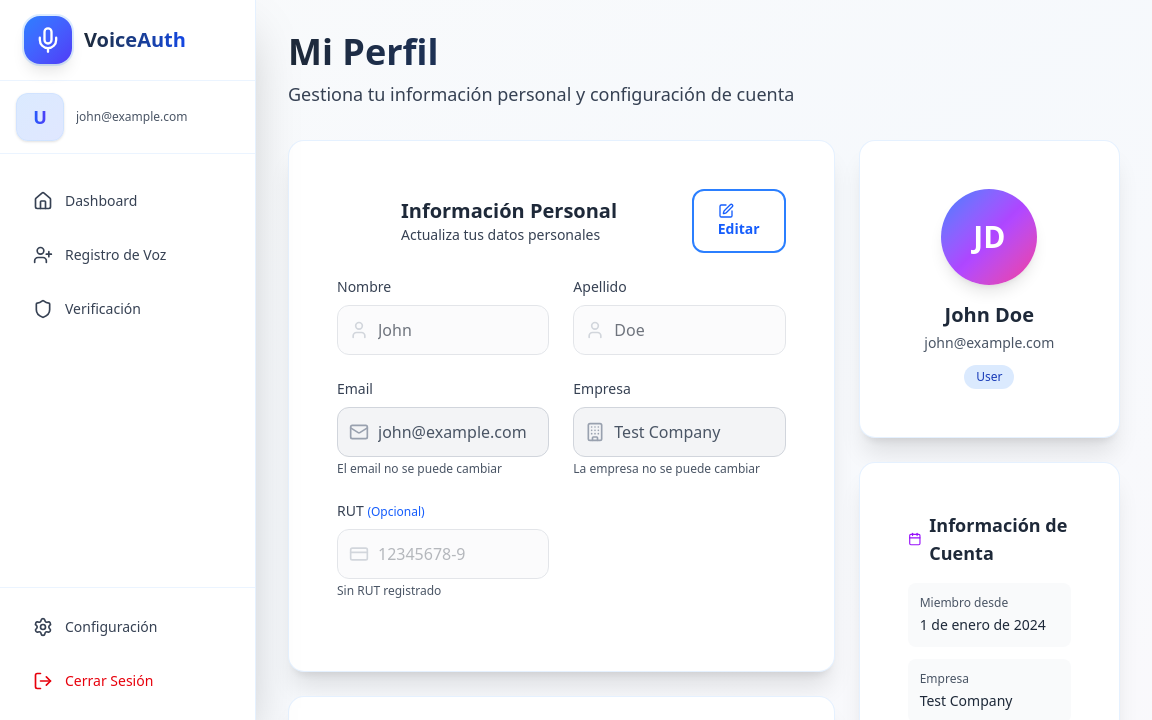
ProfilePage › enables editing mode on button click
The width and height of the screenshot is (1152, 720).
Click the button "Editar" at [739, 221], box x1=692 y1=189 x2=786 y2=253
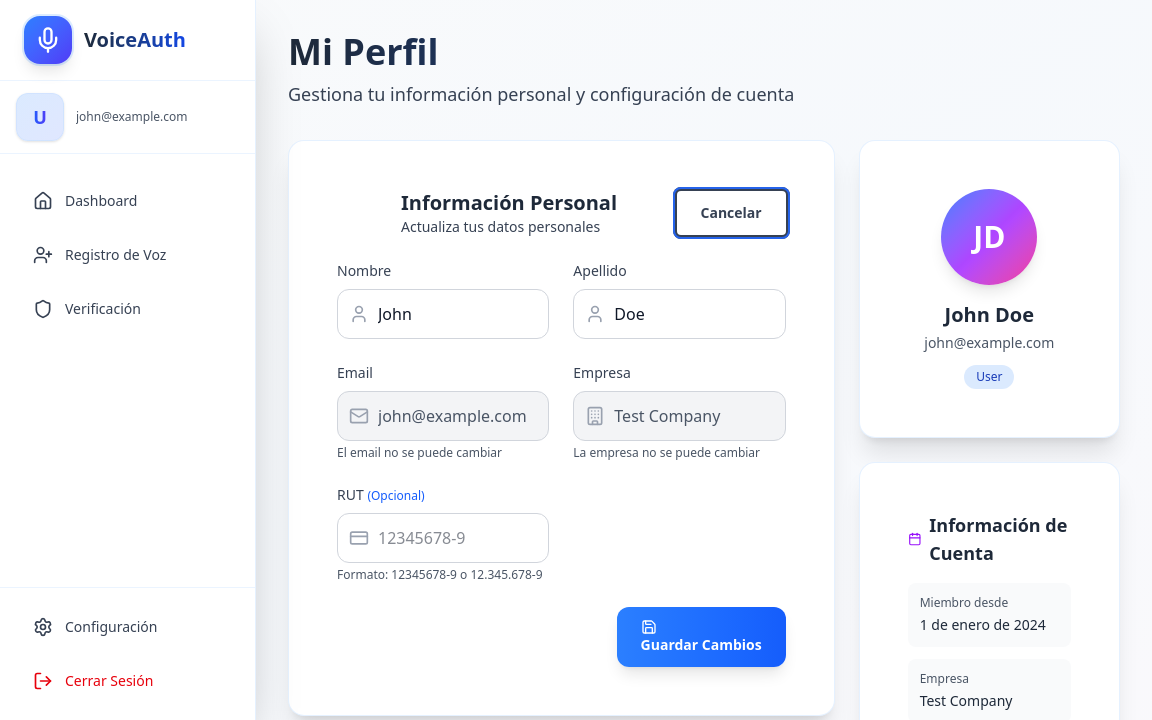
Now the button "Cancelar" is shown, box x1=676 y1=191 x2=786 y2=235
